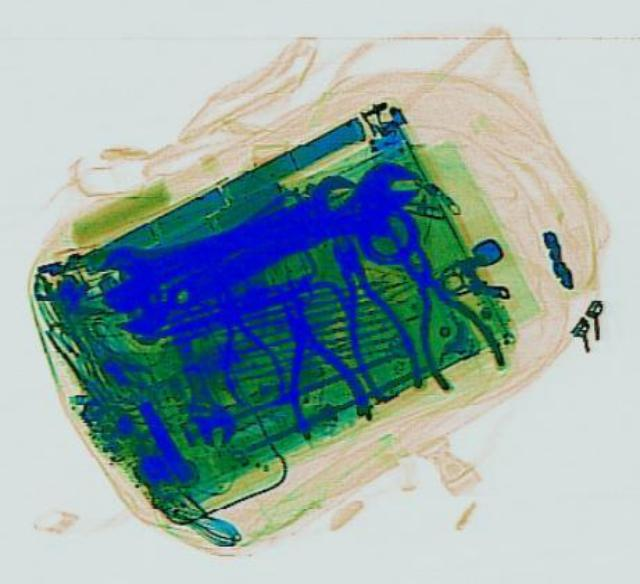Pliers: (361, 215, 509, 391), (306, 220, 428, 402), (247, 284, 377, 439), (192, 286, 288, 410)
Wrench: (150, 148, 440, 328), (79, 158, 373, 314), (150, 307, 242, 448)
